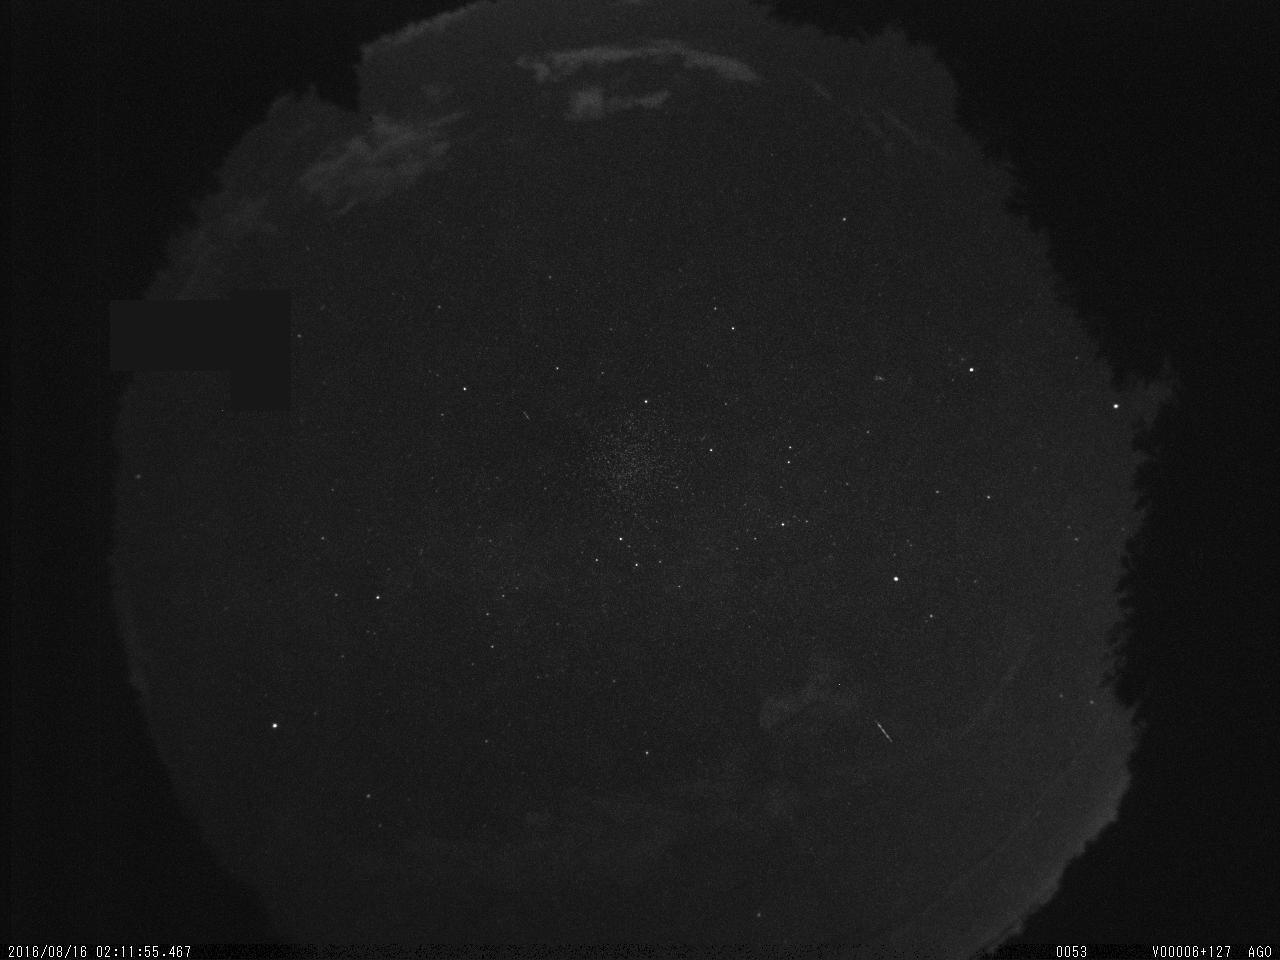Meteor: (872, 716, 898, 747)
